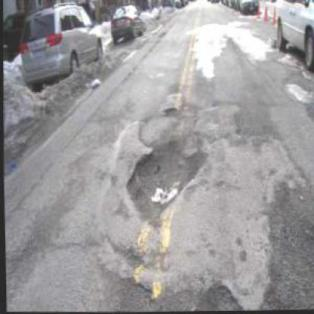Hueco: (162, 103, 175, 117)
